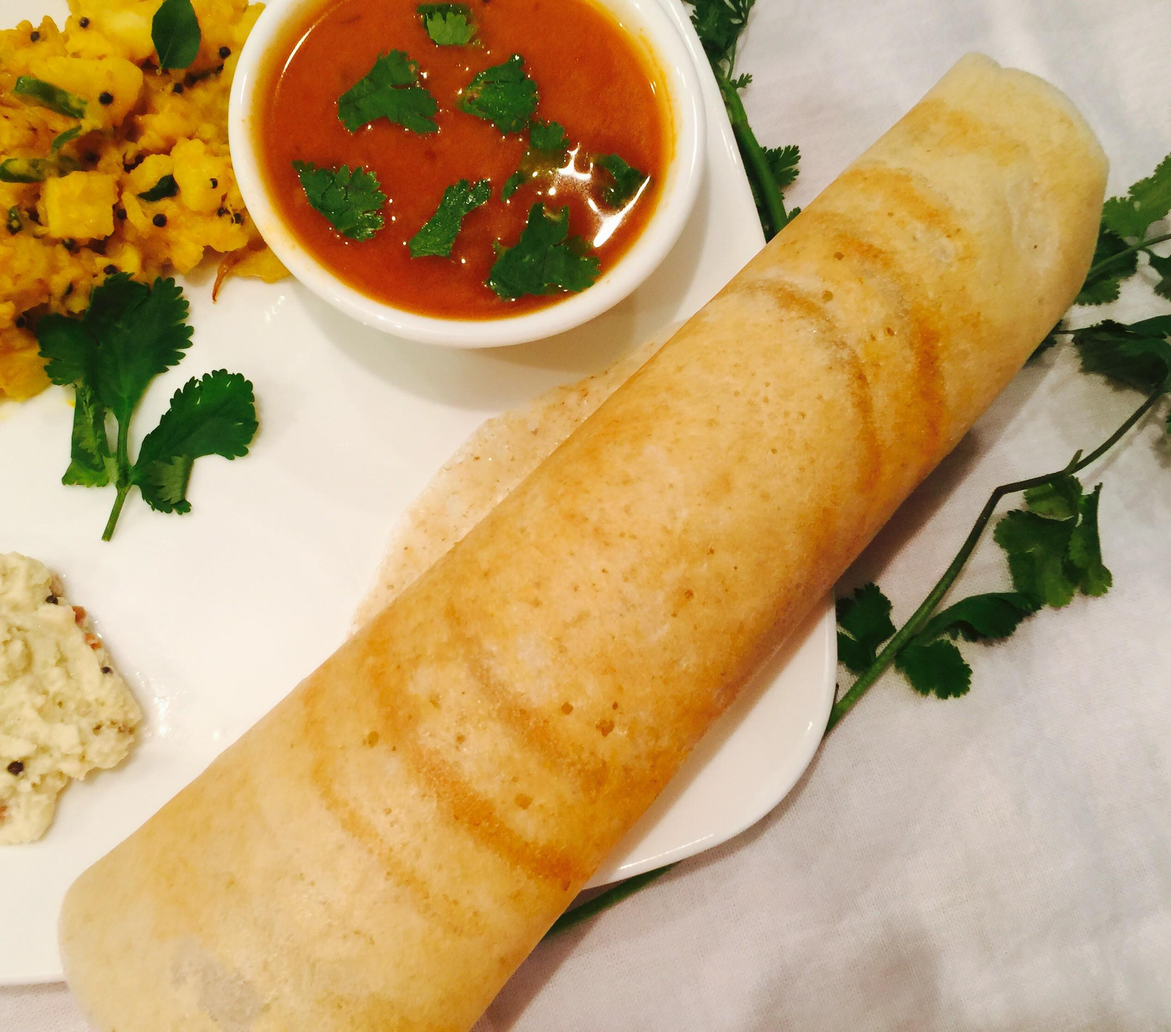CoconutChutney: (0, 553, 144, 847)
Dosa: (64, 55, 1104, 1032)
